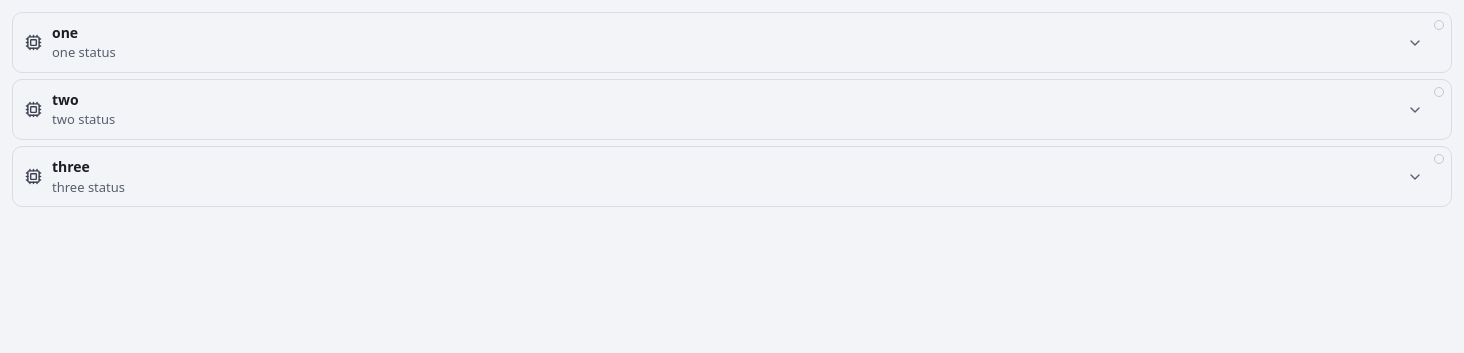
Section (the house accordion) › one section open at a time; its body exists only while open; a pinned one stays open
The width and height of the screenshot is (1464, 353).
expect the text "one body" is not shown: met
Click the button "one one status" at (84, 52), box x1=13 y1=13 x2=1451 y2=72
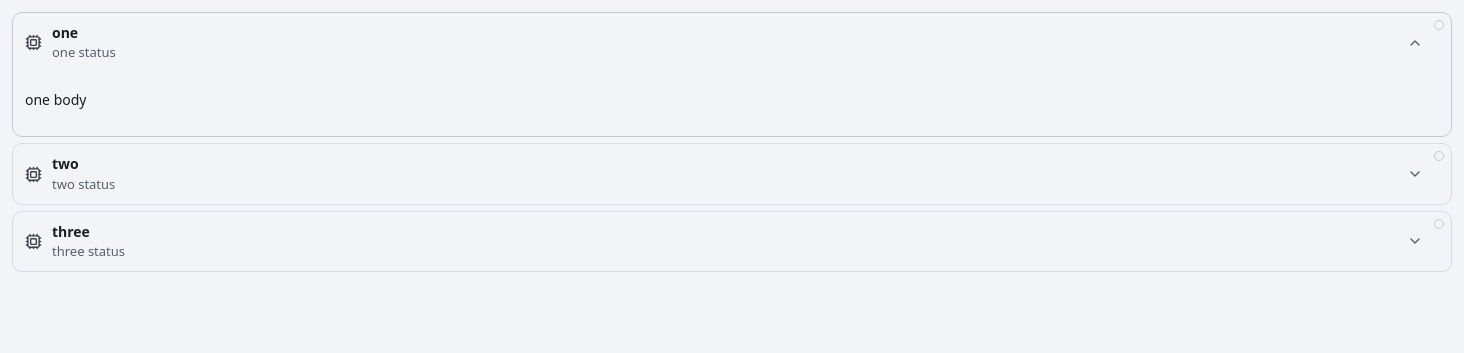
expect the text "one body" is shown: met, box x1=25 y1=90 x2=86 y2=109
Click the button named "Keep one open" at (1439, 25), box x1=1434 y1=20 x2=1444 y2=30
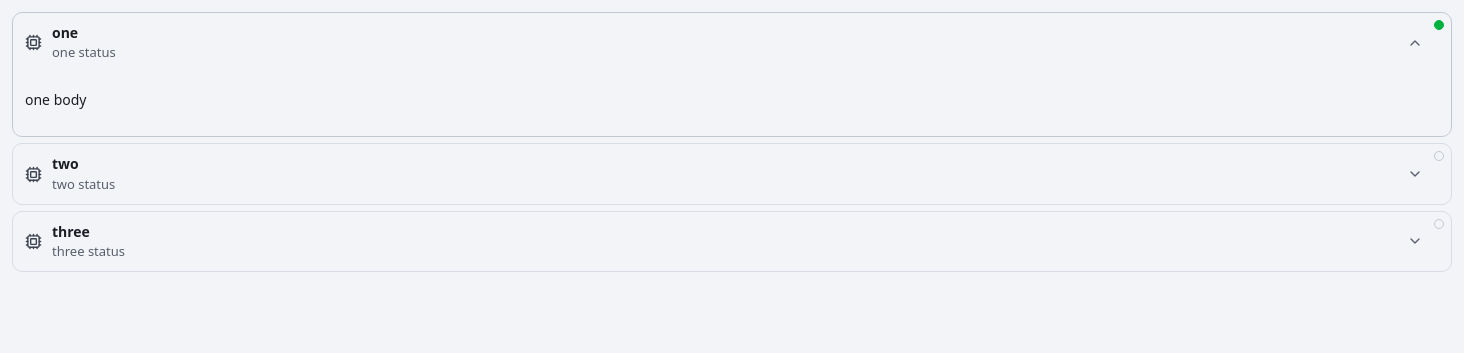
Click the button "two two status" at (84, 184), box x1=13 y1=144 x2=1451 y2=204
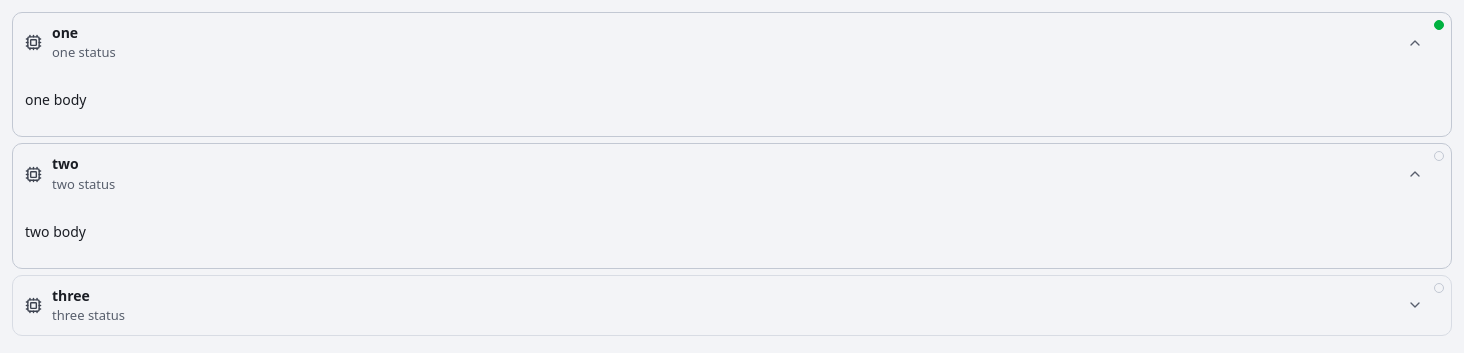
expect the text "one body" is shown: met, box x1=25 y1=90 x2=86 y2=109
expect the text "two body" is shown: met, box x1=25 y1=222 x2=86 y2=241
Click the button "three three status" at (71, 295), box x1=13 y1=276 x2=1451 y2=335
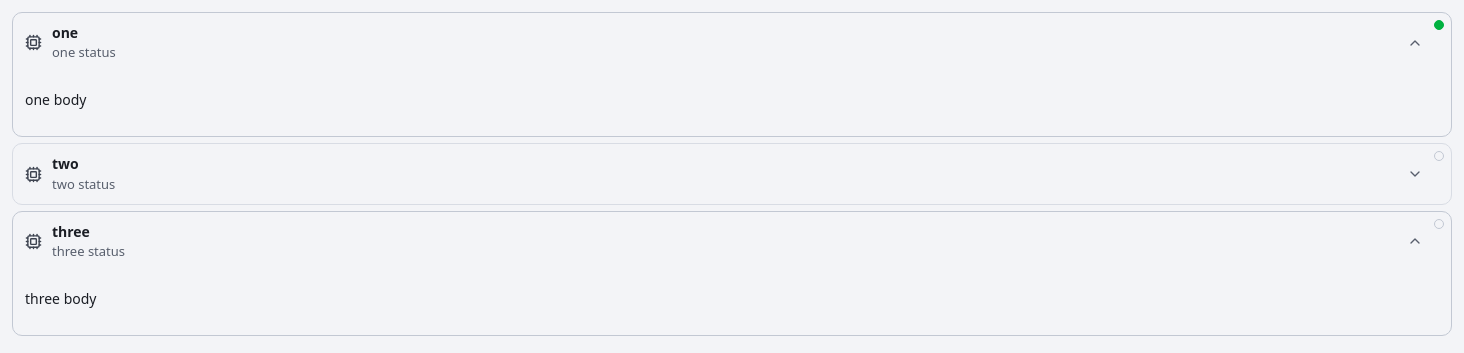
expect the text "two body" is gone: met
